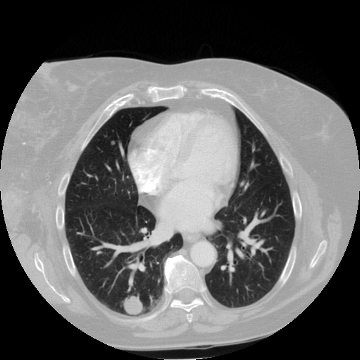nodule: (123, 295, 143, 315)
